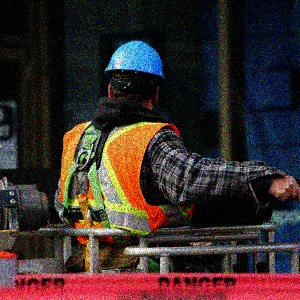helmet: (102, 40, 166, 113)
